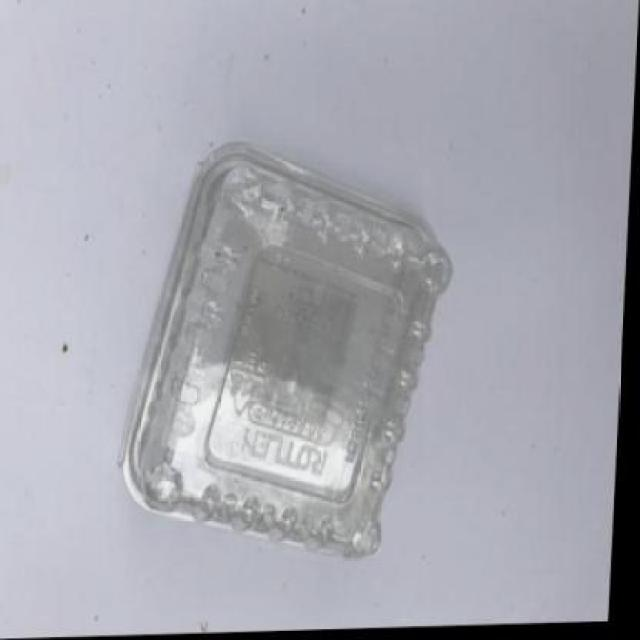Plastic: (116, 137, 458, 570)
